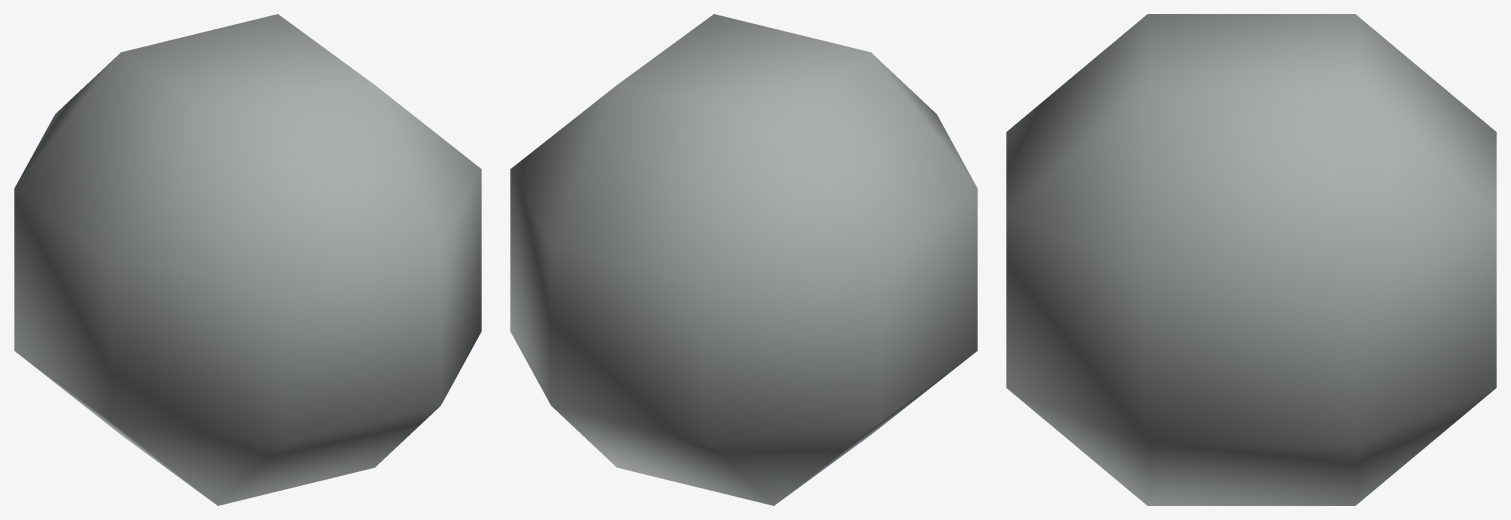
File: pellet.fbx
The picture shows the model from 3 angles, left to right: view 1: azimuth 30°, elevation 25°; view 2: azimuth 150°, elevation 25°; view 3: azimuth 270°, elevation 25°; orthographic projection. The views are drawn at different scales.
Parts seen in each view (by area): view 1: pellet; view 2: pellet; view 3: pellet.
Part boxes in pixels (bbox=[...]): pellet: bbox=[14, 14, 481, 505]; pellet: bbox=[510, 14, 977, 505]; pellet: bbox=[1006, 14, 1496, 505].
Size of the model in its own units: 18.28 by 18.04 by 19.56.
